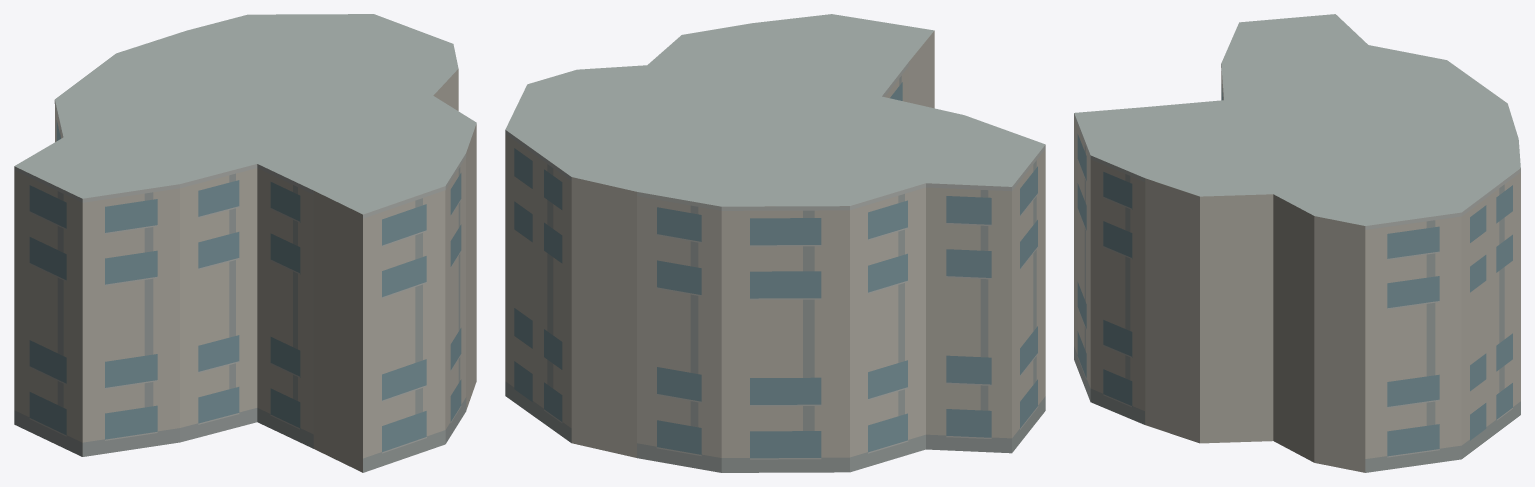
Rendered from survey-upis-33010107.glb.
3 renders of one model, left to right at view 1: azimuth 30°, elevation 25°; view 2: azimuth 150°, elevation 25°; view 3: azimuth 270°, elevation 25°, orthographic. The views are drawn at different scales.
Visible parts, largest first — view 1: survey-upis-33010107.tmp; view 2: survey-upis-33010107.tmp; view 3: survey-upis-33010107.tmp.
Boxes of the visible parts, x1,y1,x2,y2 form: survey-upis-33010107.tmp: (14,14,476,472); survey-upis-33010107.tmp: (505,14,1045,472); survey-upis-33010107.tmp: (1074,14,1520,472).
Bounding box in the file's own units: 28.11 × 15.25 × 25.02.
